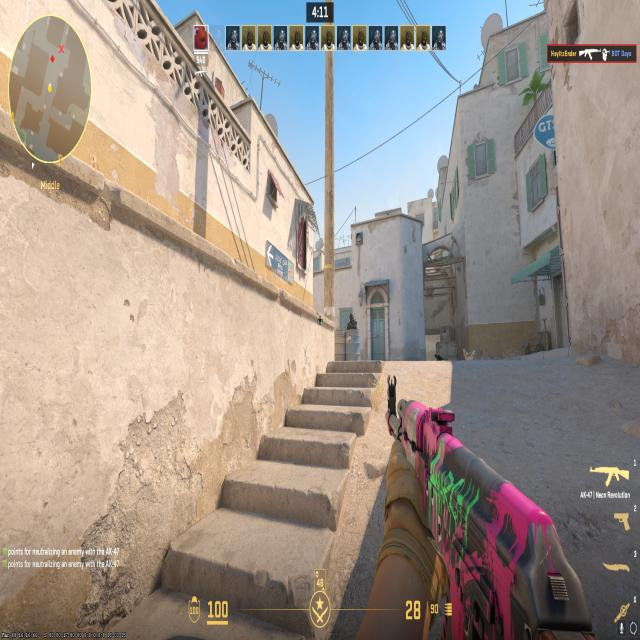ct: (346, 310, 357, 330)
